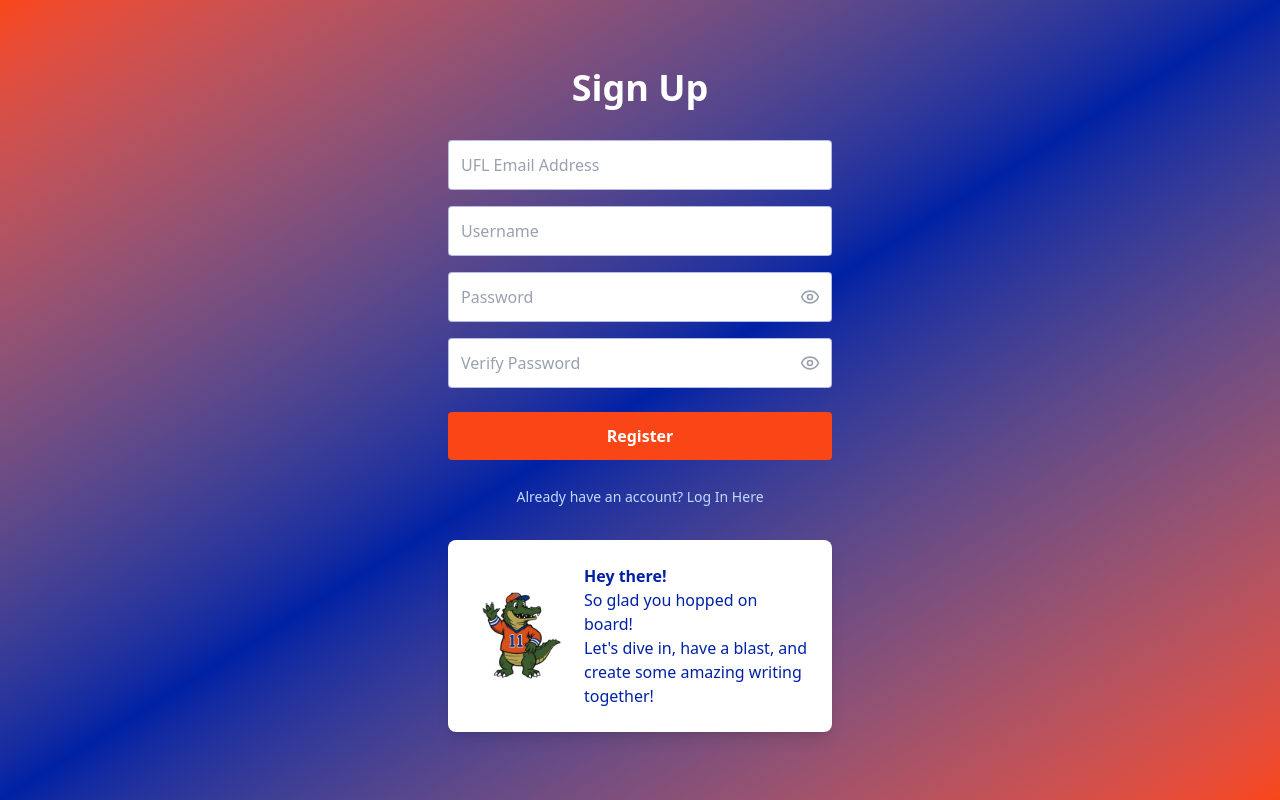
Test: SignUp Page Tests › should validate username format
Type "test@ufl.edu" into the field named "email" at coordinates (640, 165), box [448,140,832,190]
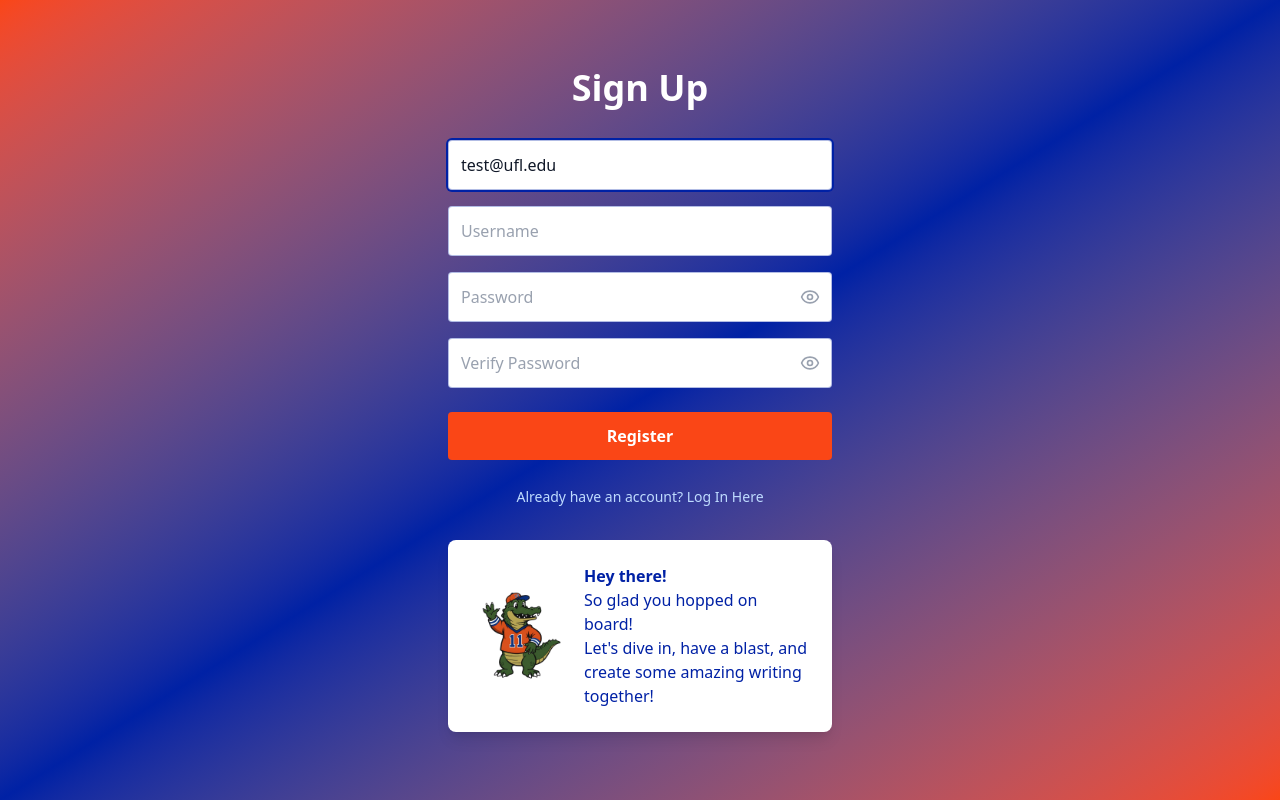
Type "test-user$" into the field named "username" at coordinates (640, 231), box [448,206,832,256]
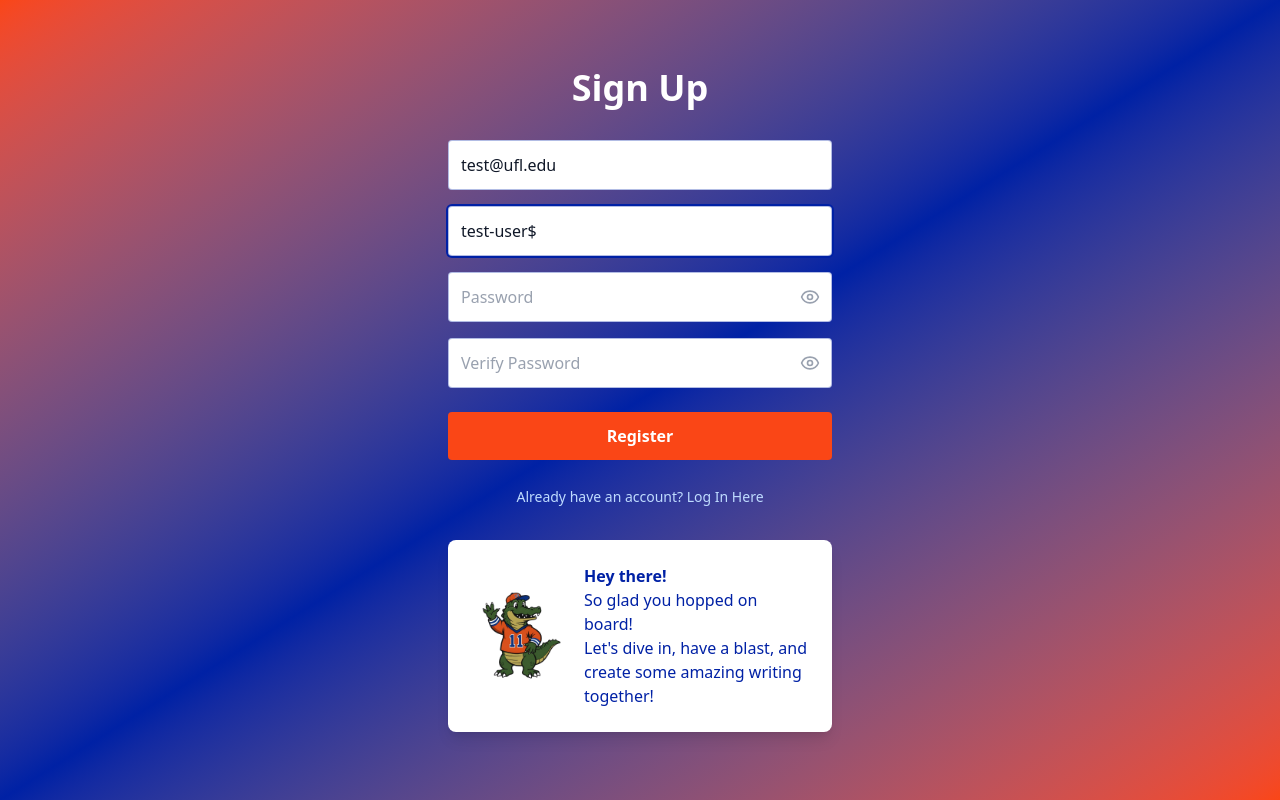
Type "Password123" into the password field named "password" at coordinates (640, 297), box [448,272,832,322]
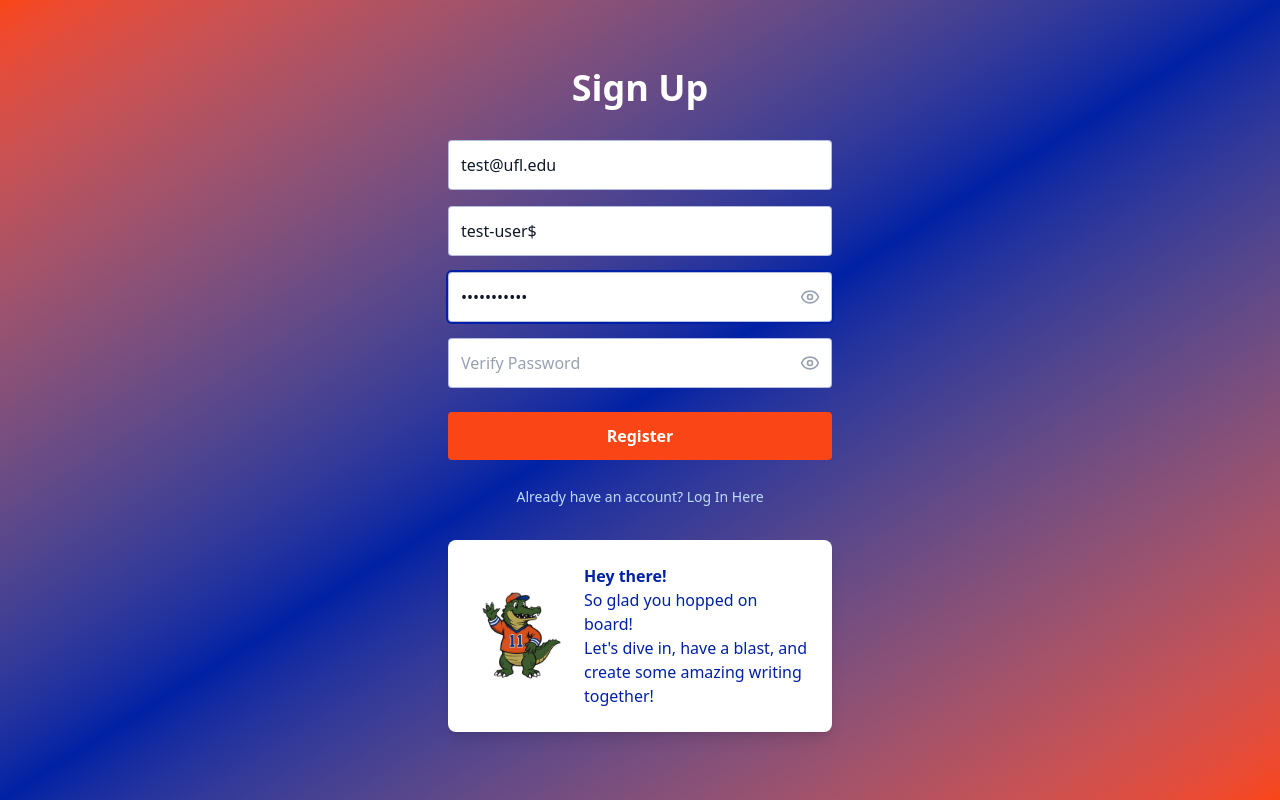
Type "Password123" into the password field named "verifyPassword" at coordinates (640, 363), box [448,338,832,388]
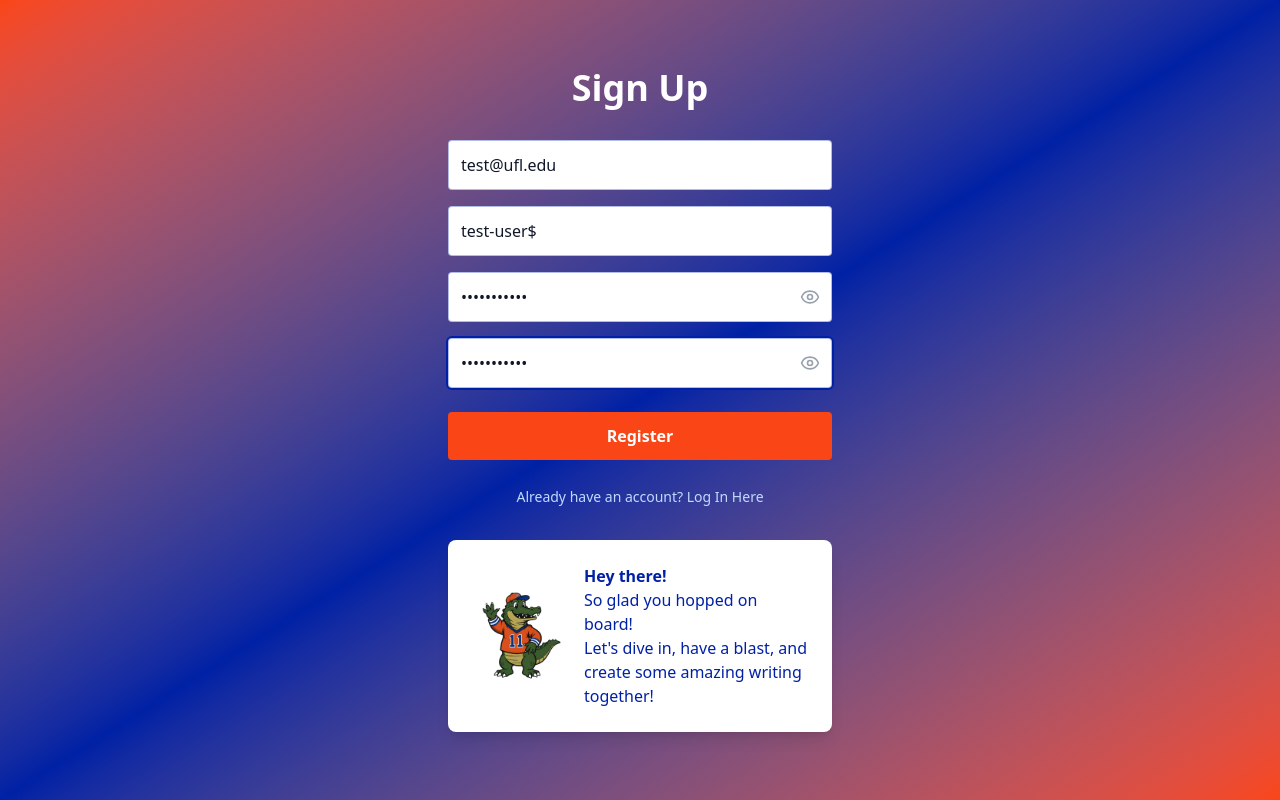
Click the submit button at coordinates (640, 436), box [448,412,832,460]
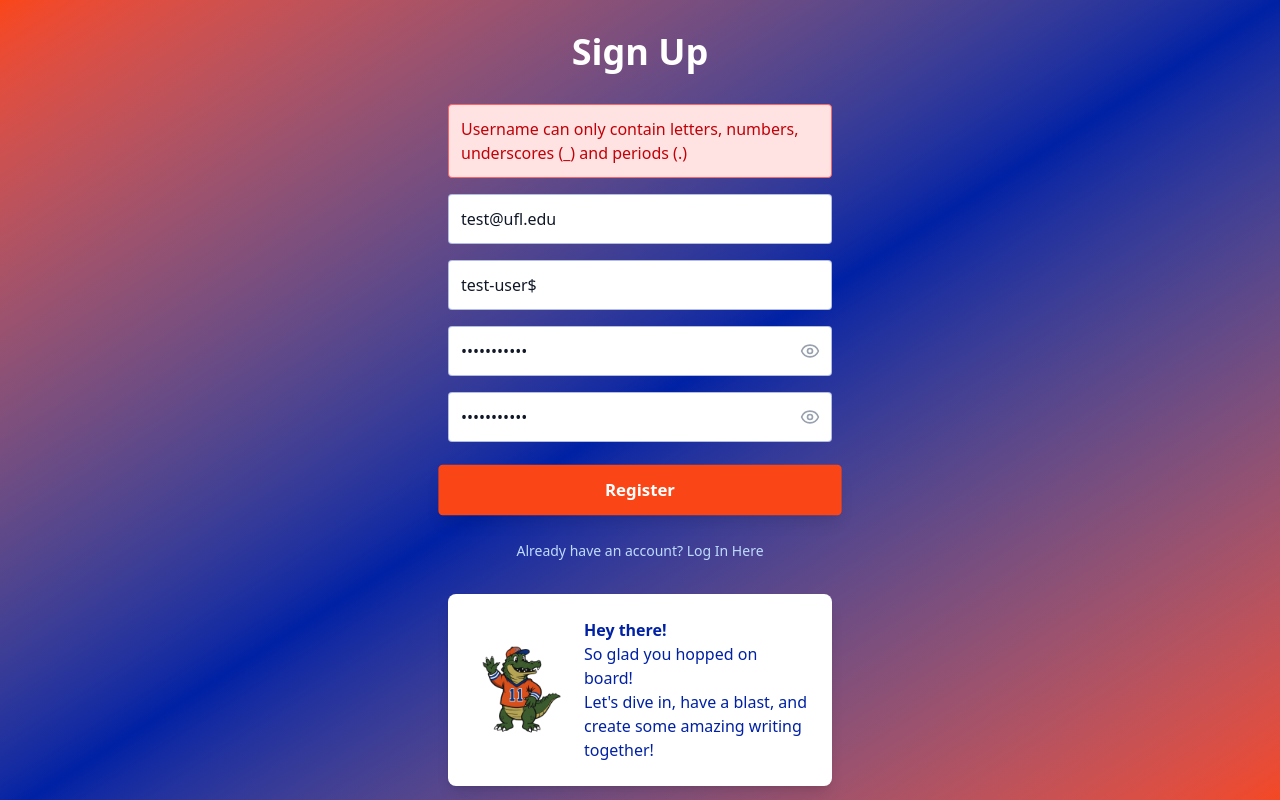
Expected: the text "Username can only contain letters, numbers, underscores (_) and periods (.)" is shown, [448,104,832,178]
